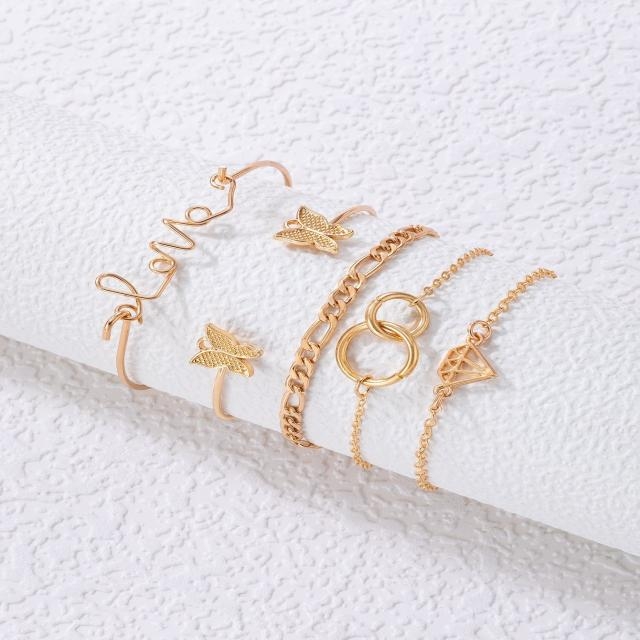bracelet: (29, 117, 640, 520)
